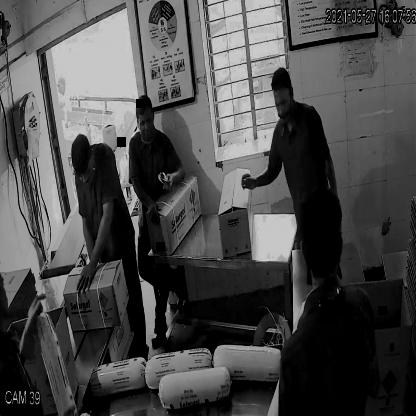no_goggles: (270, 92, 296, 116)
